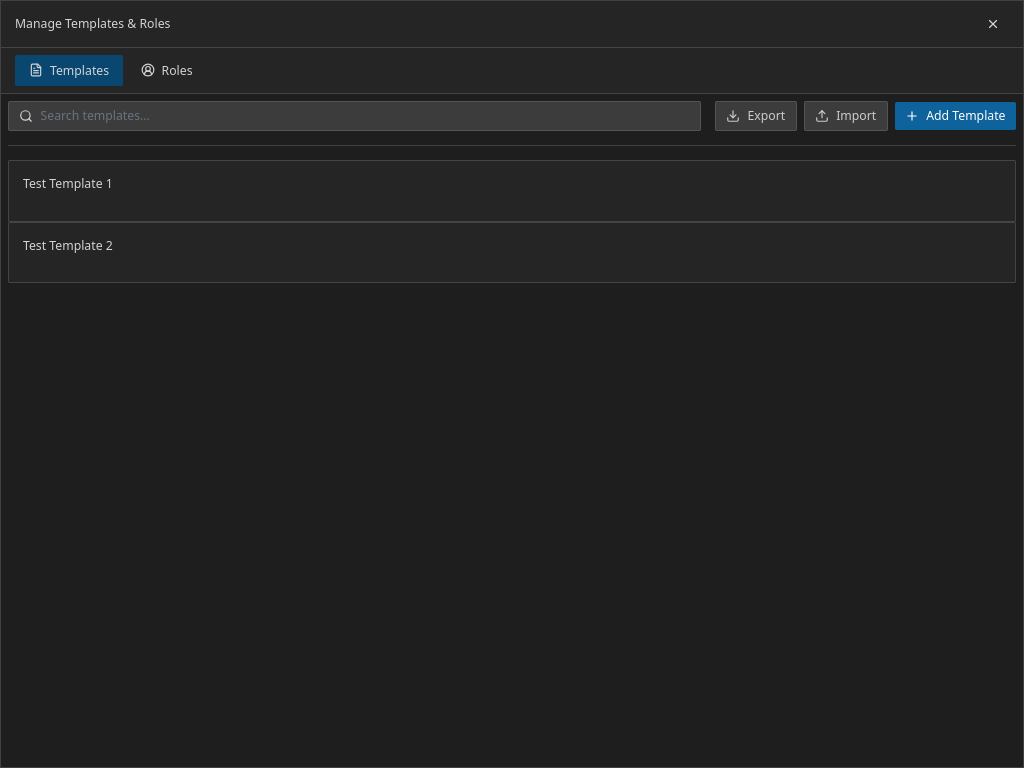
Scenario: ManageModal › shows new role form when Add Role button is clicked
The width and height of the screenshot is (1024, 768).
# Switch to roles tab
Click the button "Roles": (167, 70) [127,54,207,86]
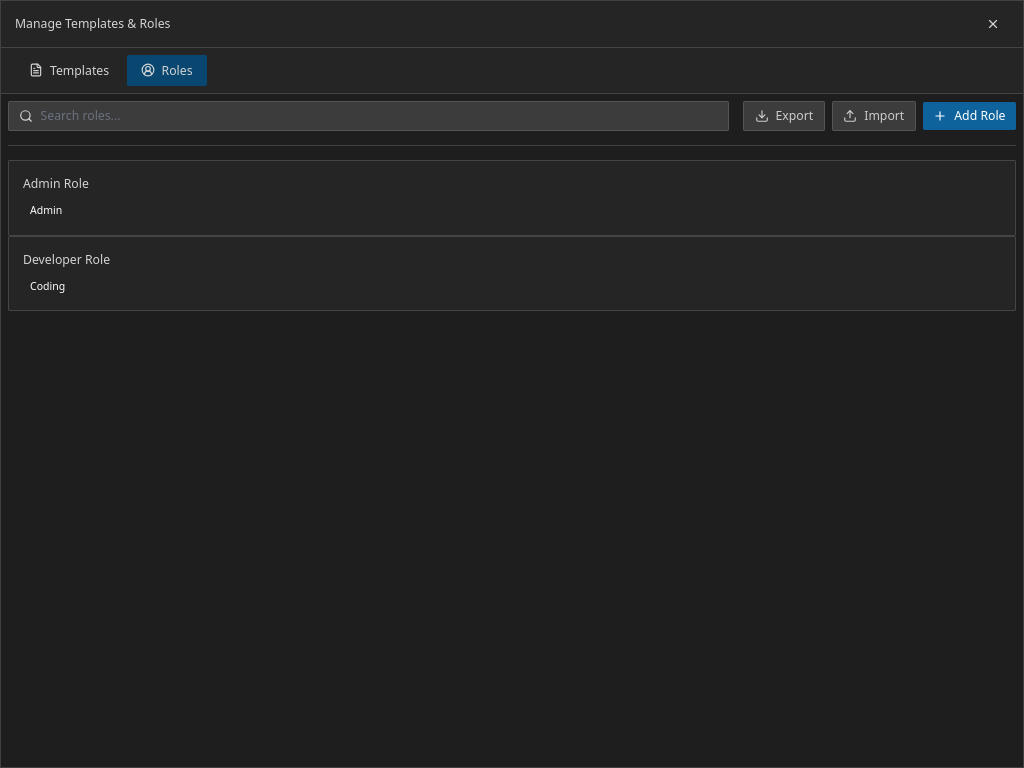
Expected: the field with placeholder "Role name" is not shown
# Click Add Role button
Click the button "Add Role": (969, 116) [923,102,1016,130]
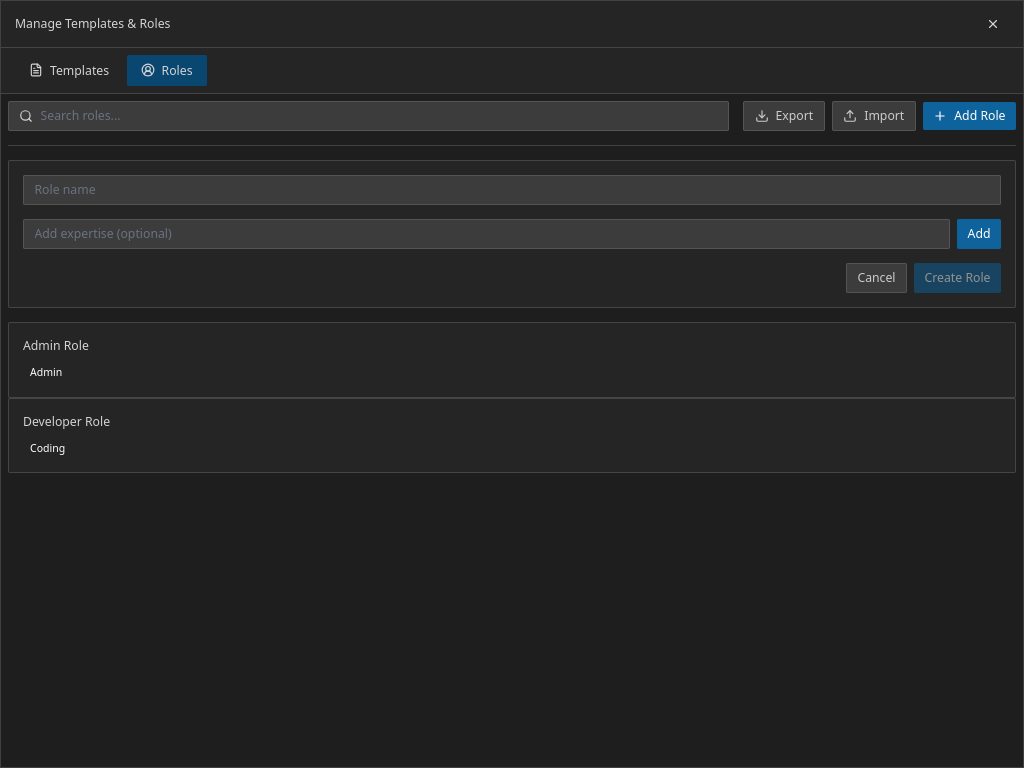
Expected: the field with placeholder "Role name" is shown, [23,175,1001,205]
